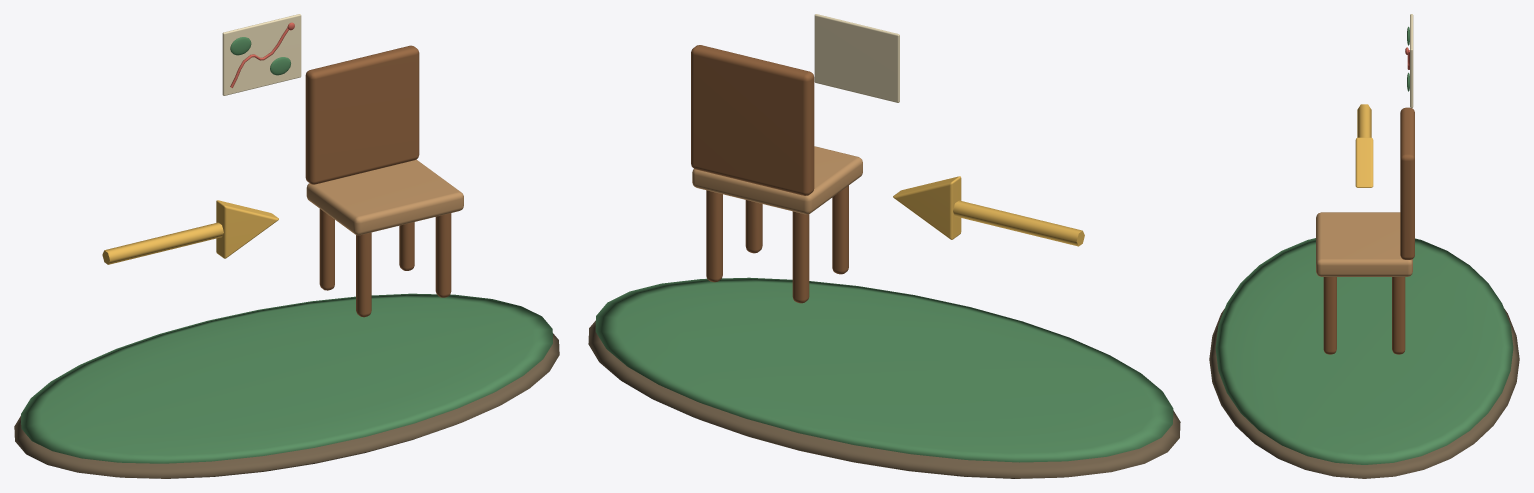
The model's file is complete-third-arrival-every-stop.glb.
The picture shows the model from 3 angles, left to right: view 1: azimuth 30°, elevation 25°; view 2: azimuth 150°, elevation 25°; view 3: azimuth 270°, elevation 25°; orthographic projection. The views are drawn at different scales.
Parts seen in each view (by area): view 1: complete-third-arrival-every-stop_surface_01, complete-third-arrival-every-stop_surface_04, complete-third-arrival-every-stop_surface_00, complete-third-arrival-every-stop_surface_03, complete-third-arrival-every-stop_surface_05, complete-third-arrival-every-stop_surface_02; view 2: complete-third-arrival-every-stop_surface_01, complete-third-arrival-every-stop_surface_04, complete-third-arrival-every-stop_surface_00, complete-third-arrival-every-stop_surface_05, complete-third-arrival-every-stop_surface_02, complete-third-arrival-every-stop_surface_03; view 3: complete-third-arrival-every-stop_surface_01, complete-third-arrival-every-stop_surface_00, complete-third-arrival-every-stop_surface_03, complete-third-arrival-every-stop_surface_04, complete-third-arrival-every-stop_surface_02, complete-third-arrival-every-stop_surface_05.
Part boxes in pixels (x1,y1,x2,y2): complete-third-arrival-every-stop_surface_01: (21, 37, 552, 463); complete-third-arrival-every-stop_surface_04: (305, 45, 451, 317); complete-third-arrival-every-stop_surface_00: (14, 333, 559, 478); complete-third-arrival-every-stop_surface_03: (306, 159, 463, 235); complete-third-arrival-every-stop_surface_05: (222, 14, 301, 95); complete-third-arrival-every-stop_surface_02: (102, 200, 278, 264); complete-third-arrival-every-stop_surface_01: (595, 277, 1173, 462); complete-third-arrival-every-stop_surface_04: (691, 45, 848, 303); complete-third-arrival-every-stop_surface_00: (588, 320, 1180, 478); complete-third-arrival-every-stop_surface_05: (814, 14, 899, 102); complete-third-arrival-every-stop_surface_02: (893, 176, 1084, 246); complete-third-arrival-every-stop_surface_03: (692, 146, 862, 214); complete-third-arrival-every-stop_surface_01: (1215, 26, 1513, 464); complete-third-arrival-every-stop_surface_00: (1209, 308, 1519, 478); complete-third-arrival-every-stop_surface_03: (1316, 212, 1412, 276); complete-third-arrival-every-stop_surface_04: (1323, 107, 1414, 354); complete-third-arrival-every-stop_surface_02: (1355, 104, 1373, 187); complete-third-arrival-every-stop_surface_05: (1410, 14, 1413, 108).
Bounding box in the file's own units: 4.56 × 3.04 × 2.5.
